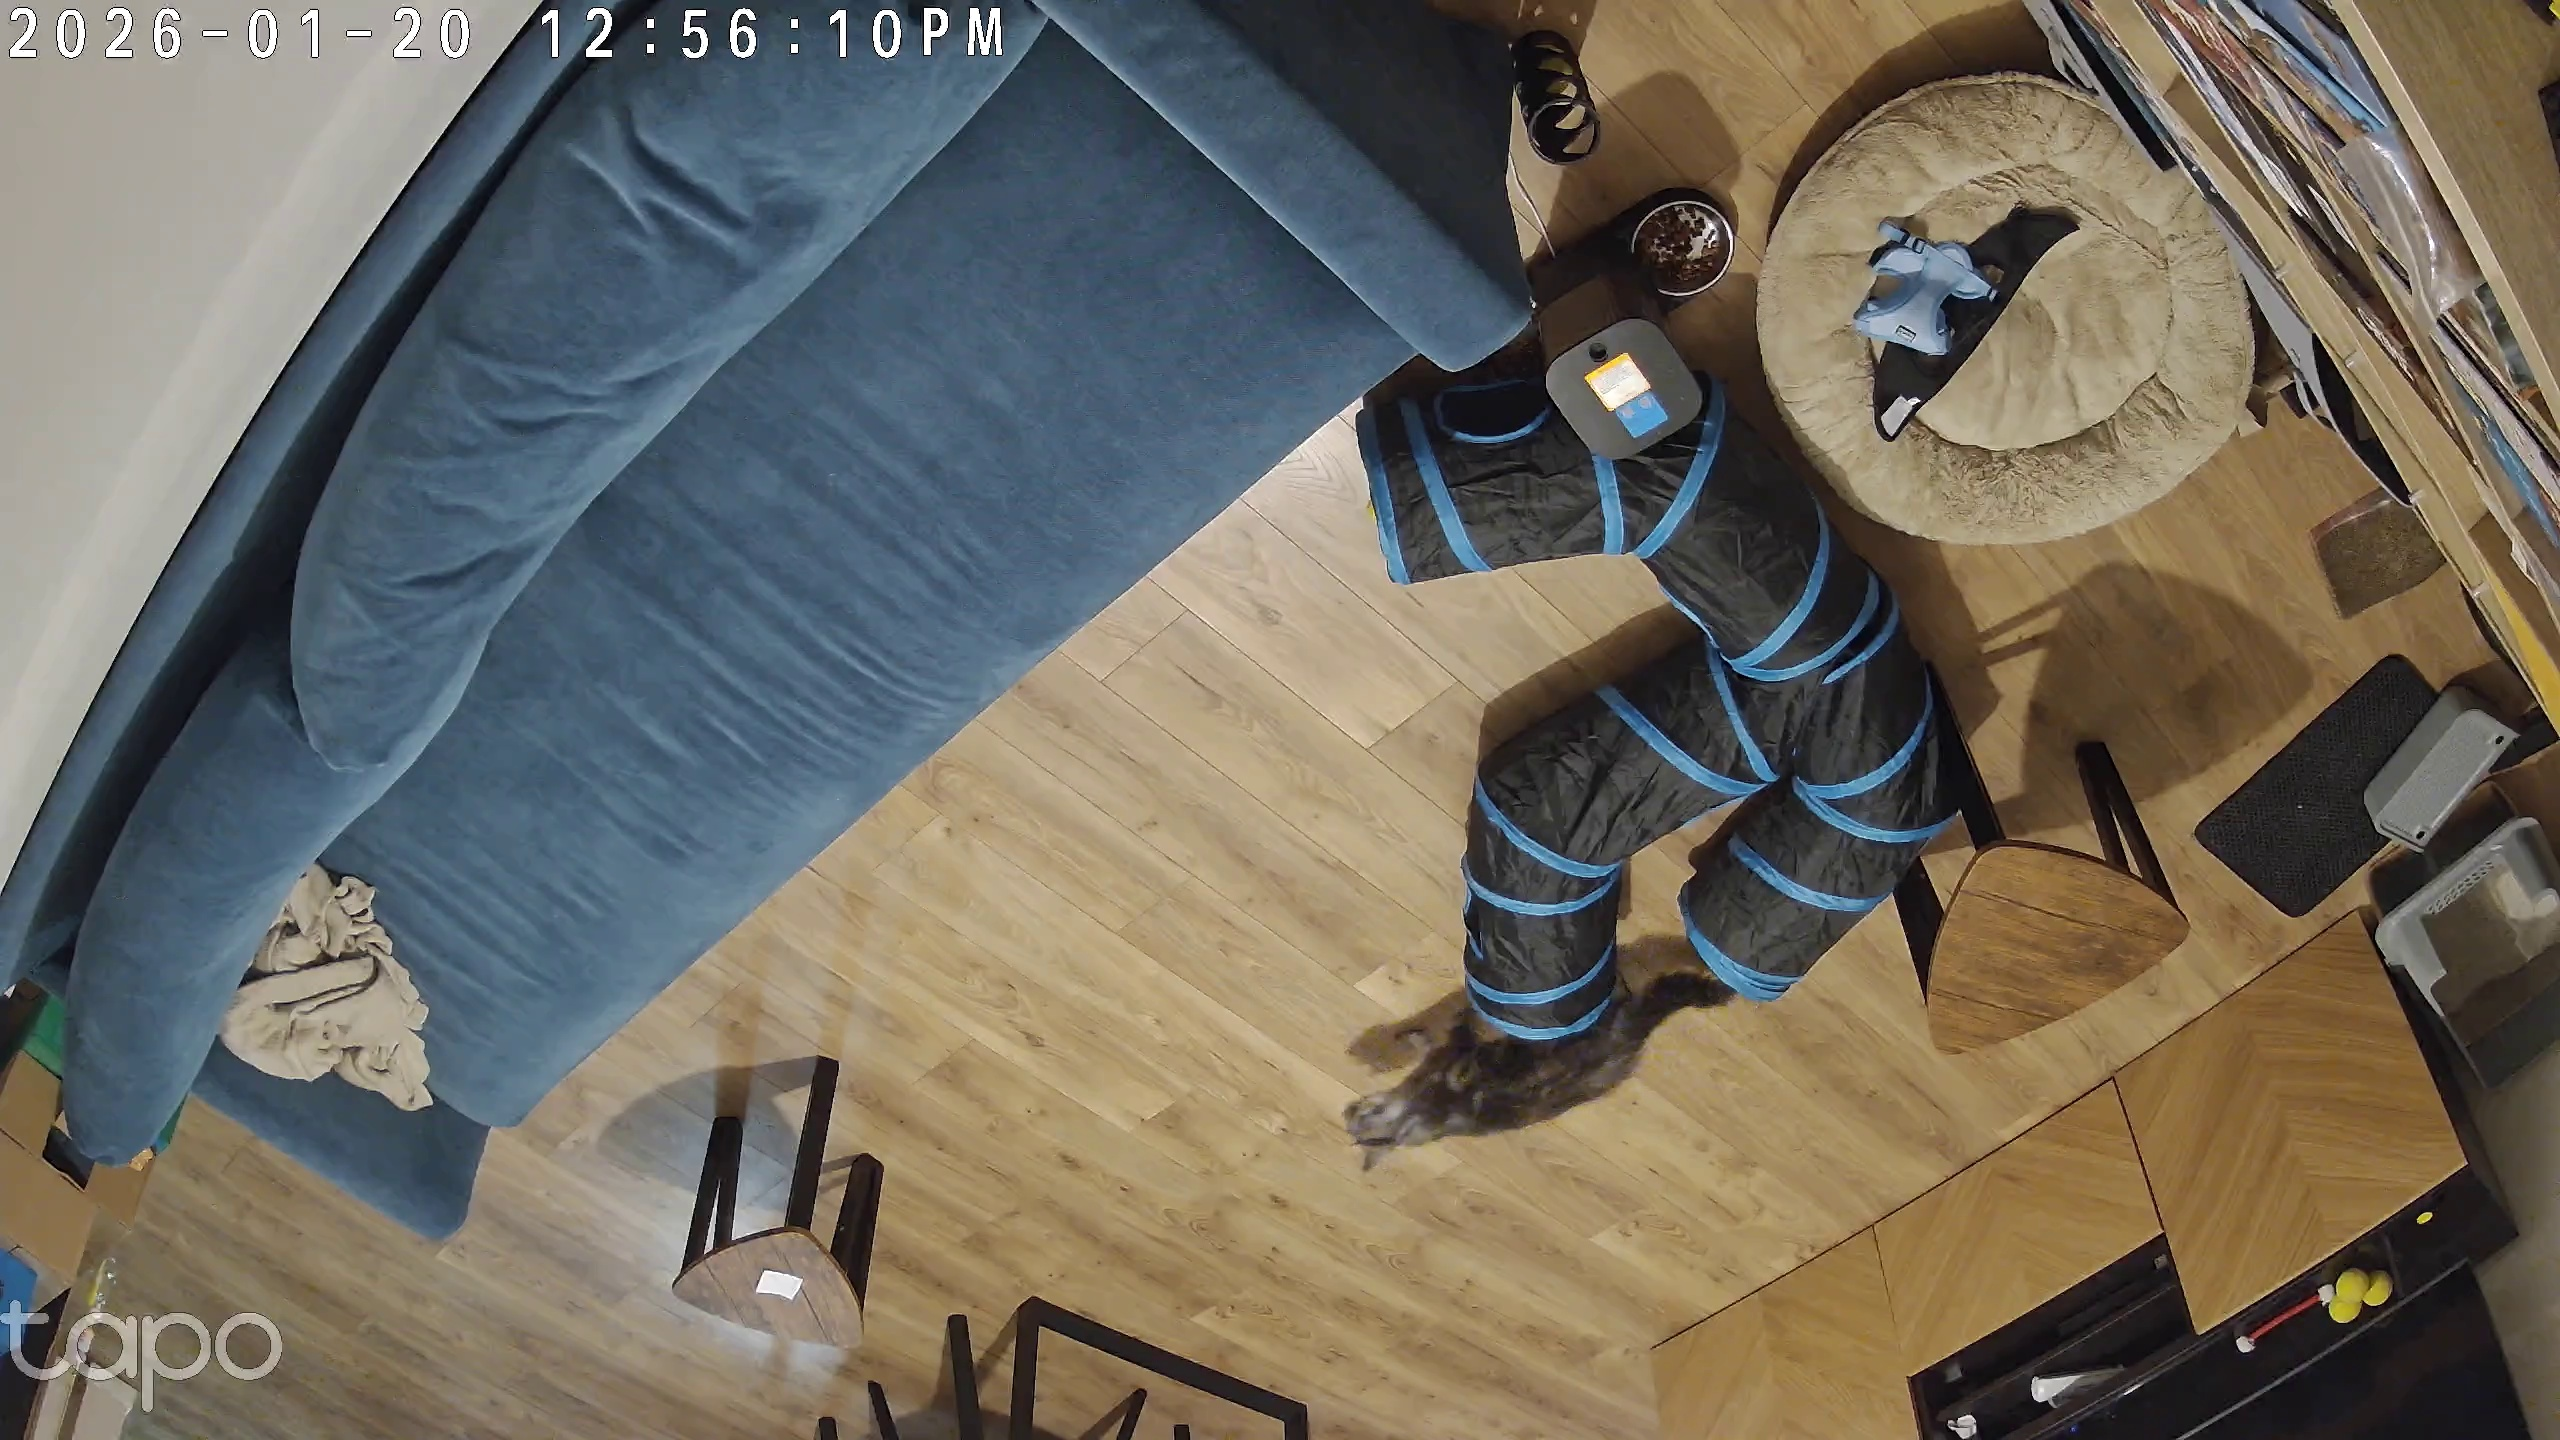Nala: (1335, 930, 1739, 1173)
